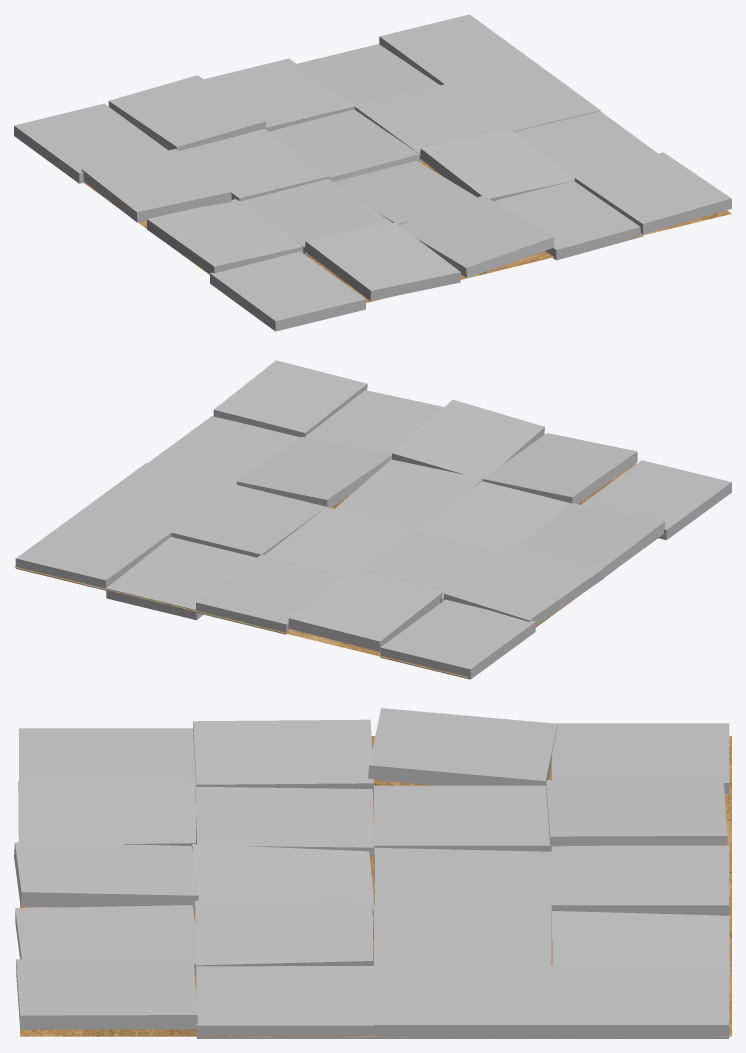
File: Floor_Tiles_4m.fbx
3 renders of one model, top to bottom at view 1: azimuth 30°, elevation 25°; view 2: azimuth 150°, elevation 25°; view 3: azimuth 270°, elevation 25°, orthographic. The views are drawn at different scales.
Visible parts, largest first — view 1: Geom_tiles_4m, Geom_Sand_4m; view 2: Geom_tiles_4m, Geom_Sand_4m; view 3: Geom_tiles_4m, Geom_Sand_4m.
Boxes of the visible parts, x1,y1,x2,y2 form: Geom_tiles_4m: (14,14,731,331); Geom_Sand_4m: (82,48,731,302); Geom_tiles_4m: (15,360,731,679); Geom_Sand_4m: (14,463,663,677); Geom_tiles_4m: (14,708,729,1038); Geom_Sand_4m: (20,736,731,1036).
Bounding box in the file's own units: 407 × 24.83 × 403.
